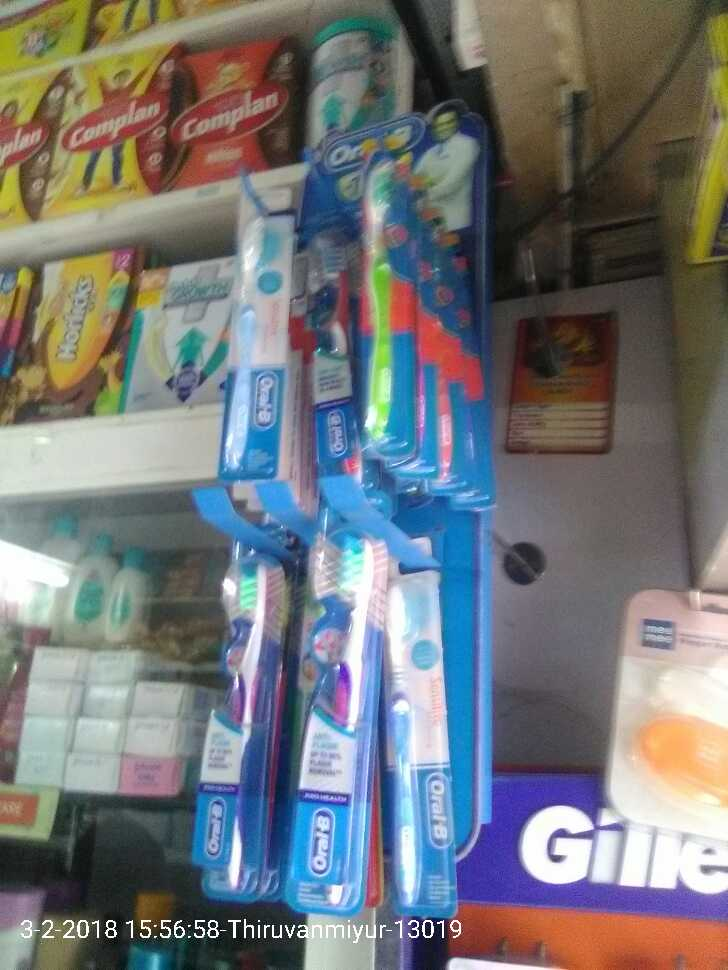oralb: (288, 523, 363, 898), (199, 546, 268, 873), (349, 157, 415, 443), (230, 187, 278, 480)
